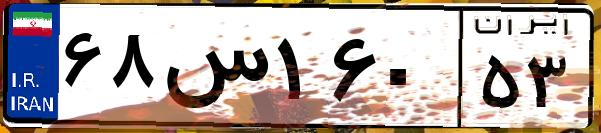0: (385, 28, 445, 110)
1: (270, 28, 330, 110)
3: (525, 38, 570, 115)
5: (475, 38, 525, 113)
6: (330, 28, 385, 110), (57, 26, 110, 100)
8: (110, 28, 158, 98)
س: (158, 20, 270, 120)
